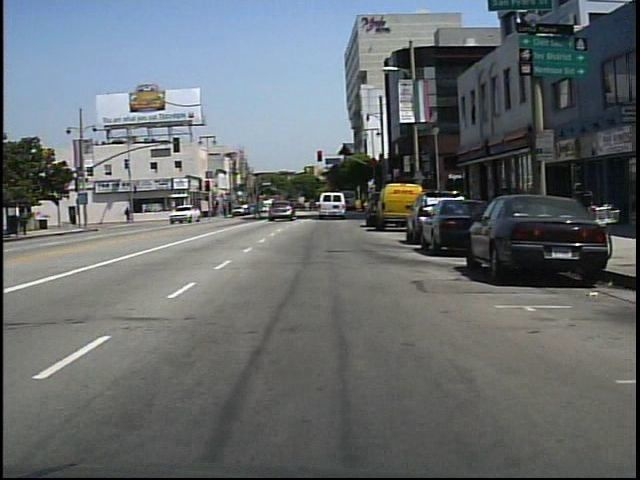person: (253, 192, 270, 222), (126, 205, 134, 223)
